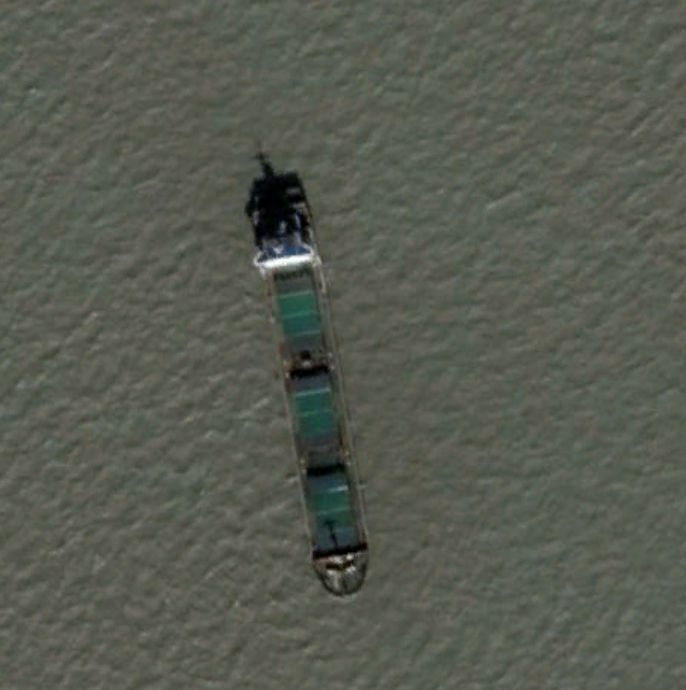boat: (245, 172, 372, 600)
